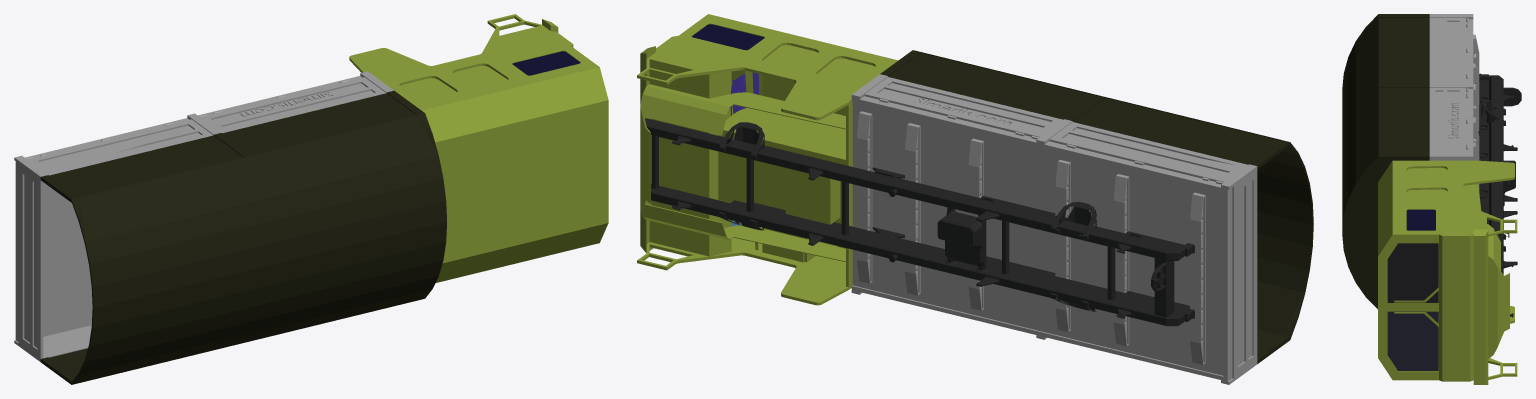
The model's file is MAN_5t_chassis_mod.obj.
3 renders of one model, left to right at view 1: azimuth 30°, elevation 25°; view 2: azimuth 150°, elevation 25°; view 3: azimuth 270°, elevation 25°, orthographic. The views are drawn at different scales.
Parts seen in each view (by area): view 1: SOLID8, SOLID2, SOLID7, SOLID3; view 2: SOLID7, SOLID2, SOLID10, SOLID8, SOLID3; view 3: SOLID2, SOLID8, SOLID7, SOLID10, SOLID6, SOLID5, SOLID3.
Boxes of the visible parts, x1,y1,x2,y2 form: SOLID8: [40, 90, 446, 384]; SOLID2: [349, 14, 608, 282]; SOLID7: [14, 71, 393, 361]; SOLID3: [512, 51, 580, 75]; SOLID7: [851, 74, 1257, 384]; SOLID2: [637, 14, 898, 305]; SOLID10: [645, 118, 1194, 326]; SOLID8: [880, 50, 1313, 363]; SOLID3: [692, 24, 764, 50]; SOLID2: [1378, 160, 1517, 384]; SOLID8: [1342, 14, 1429, 308]; SOLID7: [1429, 14, 1479, 190]; SOLID10: [1475, 73, 1521, 317]; SOLID6: [1387, 311, 1438, 370]; SOLID5: [1387, 243, 1438, 302]; SOLID3: [1406, 209, 1435, 230].
Size of the model in its own units: 7.49 by 2.47 by 2.59.
